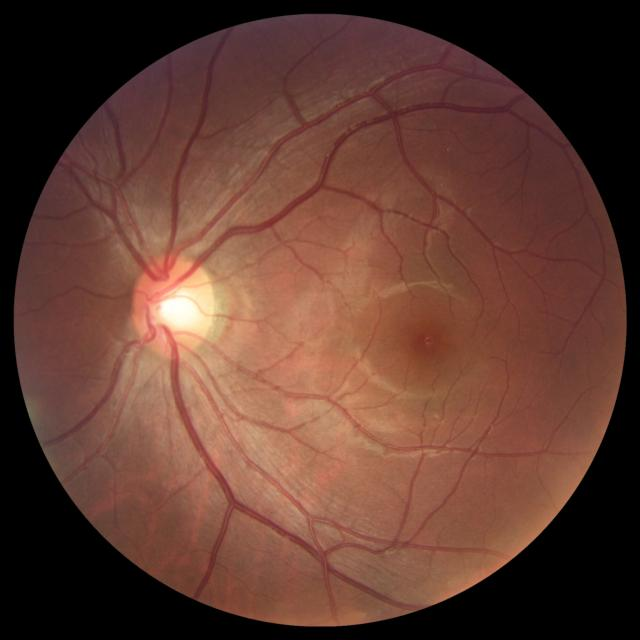OC: (148, 284, 202, 332)
OD: (134, 257, 214, 357)
